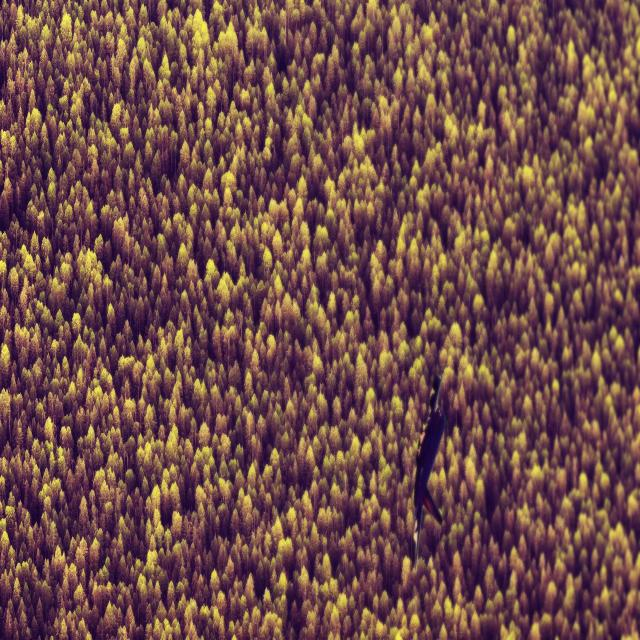airplane: (410, 373, 446, 573)
